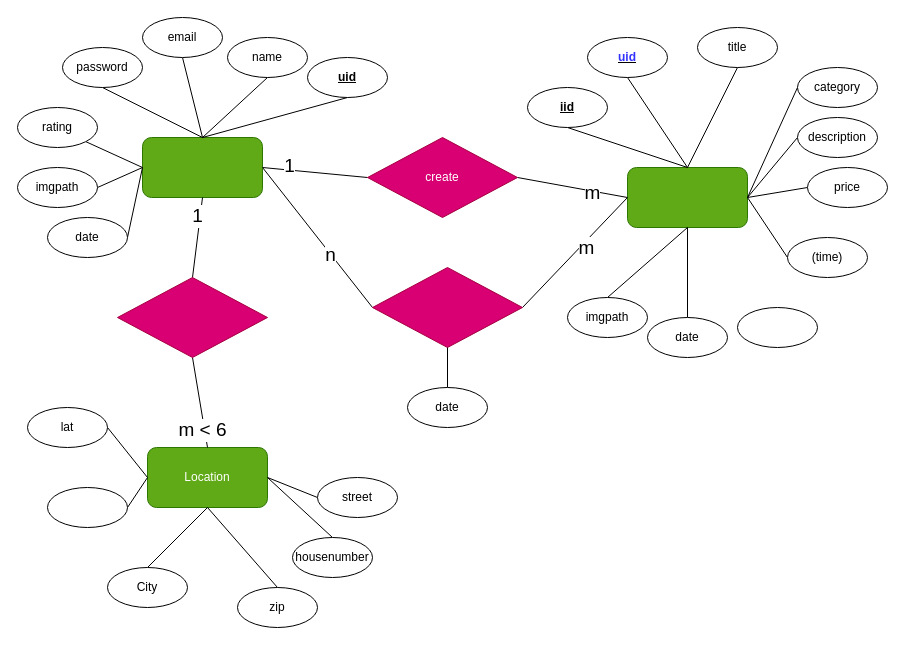
The diagram is 905 pixels wide and 645 high, and some of its shapes have lost their labels. Each missing label, with the centre of its shape:
condition: pixel 777 327
has: pixel 192 317
Item: pixel 687 197
lon: pixel 87 507
User: pixel 202 167
views: pixel 447 307
